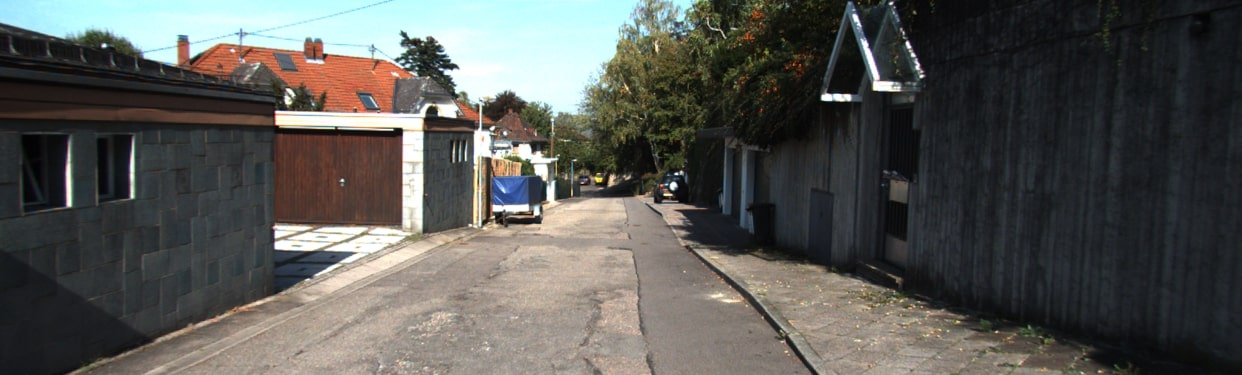car: (488, 173, 547, 227), (652, 174, 687, 205)
